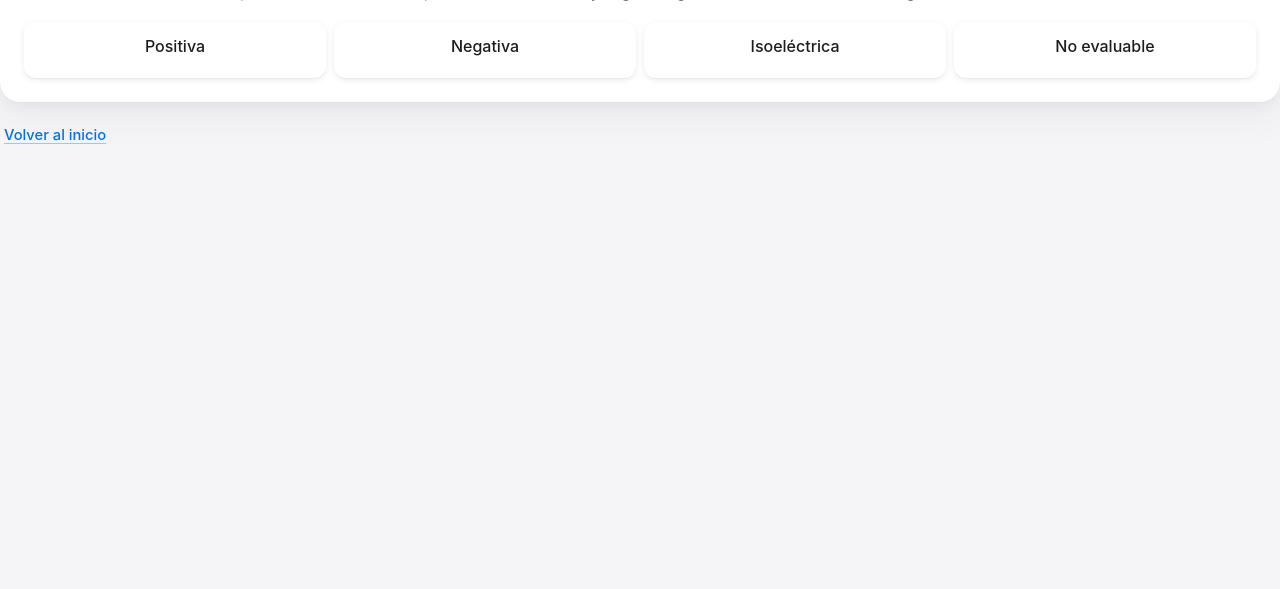
Asistente guiado › solo pregunta lo que la rama necesita (I negativa → aVF, sin R/S en V1)
Click the button "Negativa": (485, 50) [334,22,636,78]
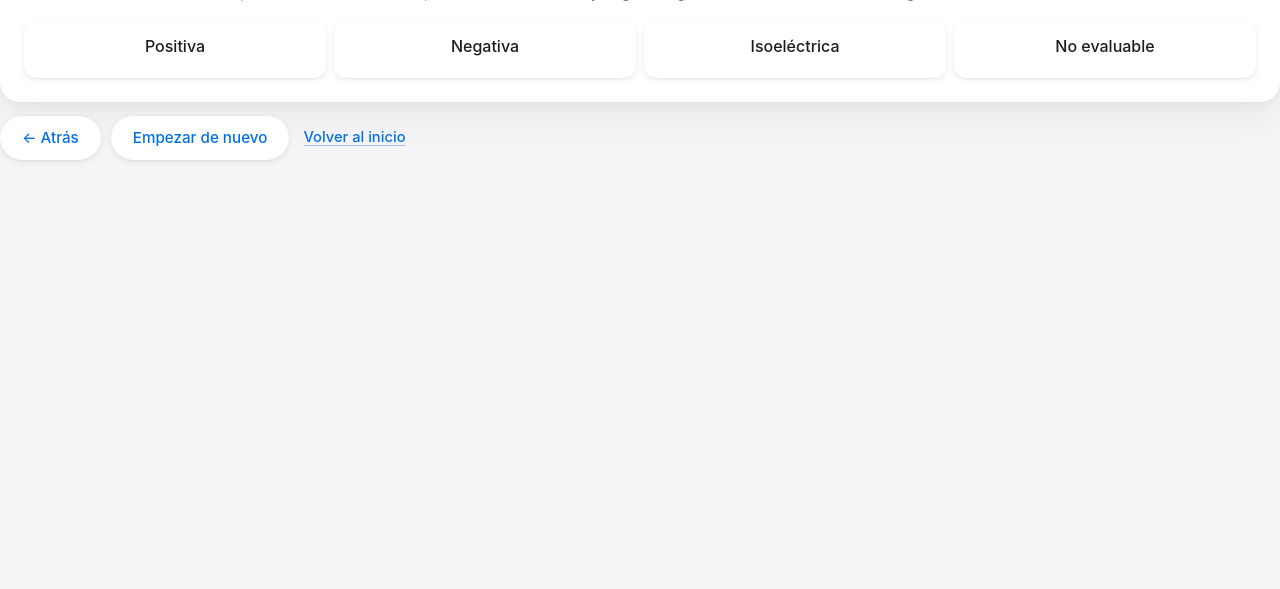
Click the button "Positiva": (175, 50) [24,22,326,78]
(page scrolled)
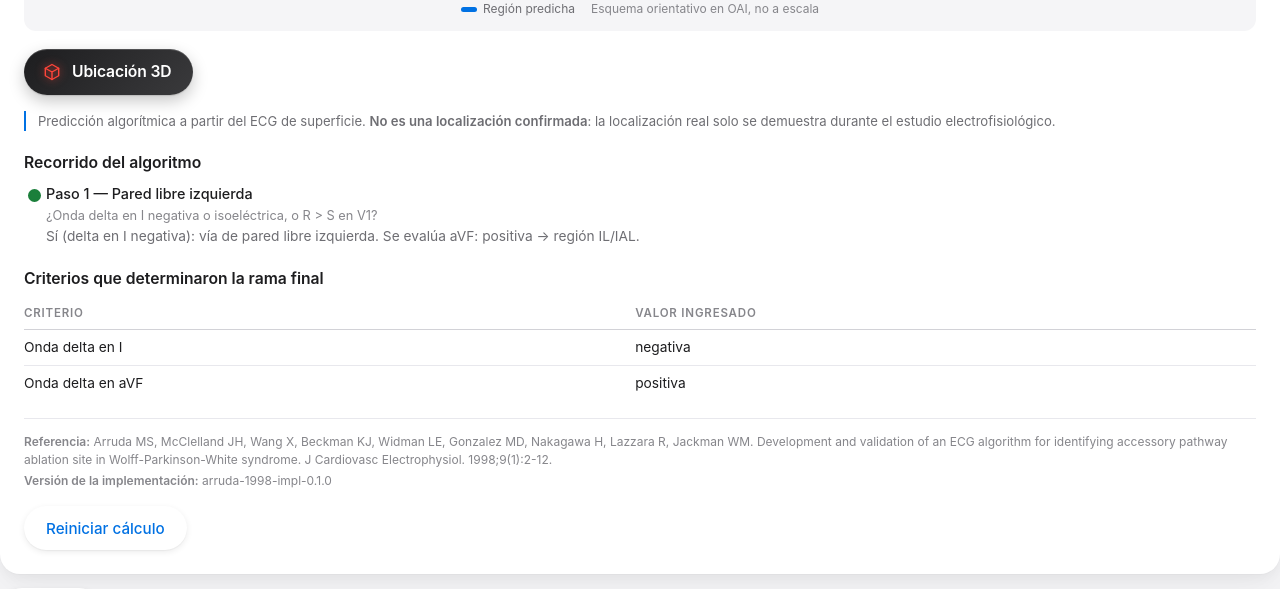
Result: the list with test id "ruta" shows "IL/IAL" at [46,228,640,244]
